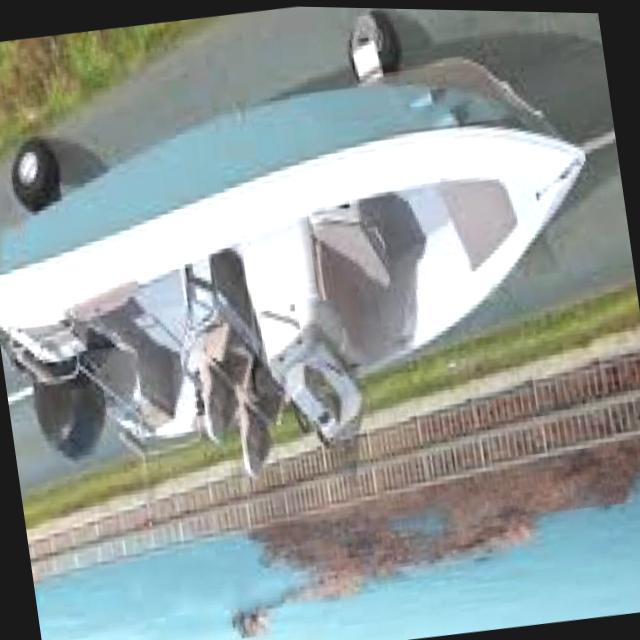ship2: (0, 52, 587, 475)
